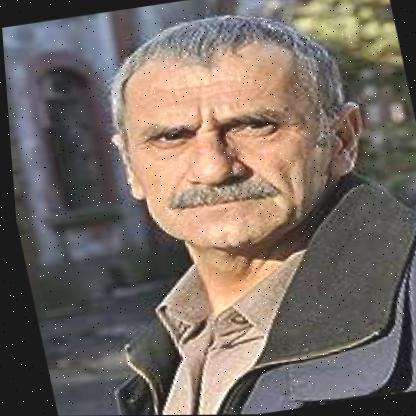person: (89, 0, 391, 263)
